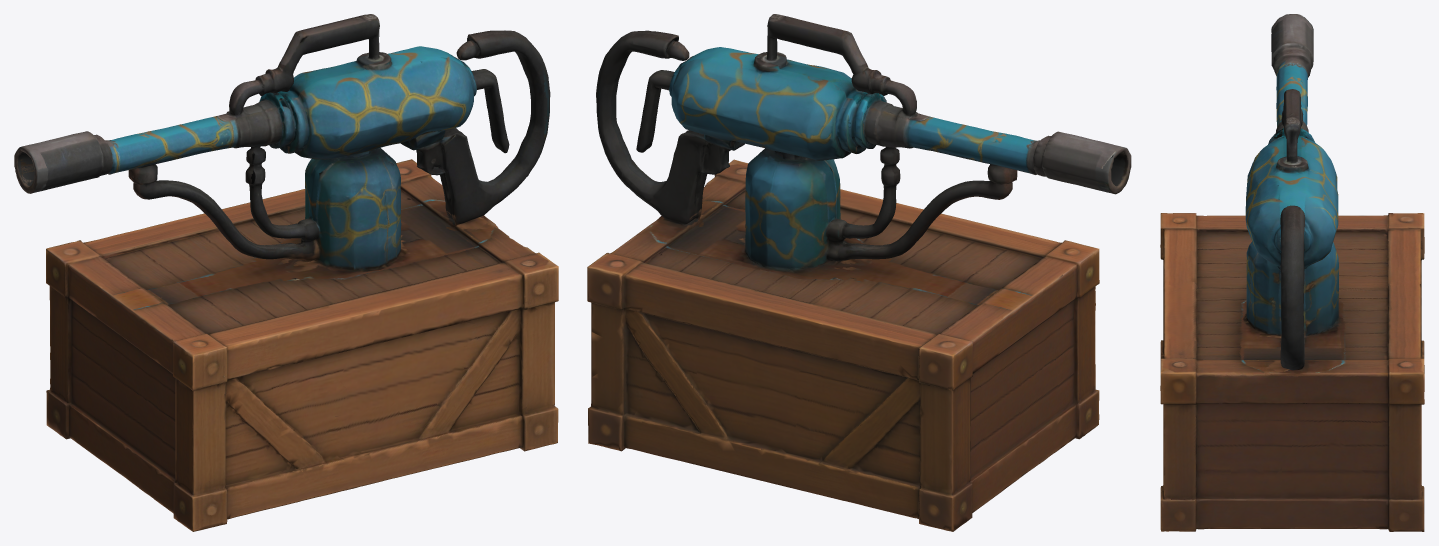
The model's file is Mystic_Blaster_compressed.glb.
3 renders of one model, left to right at view 1: azimuth 30°, elevation 25°; view 2: azimuth 150°, elevation 25°; view 3: azimuth 270°, elevation 25°, orthographic. The views are drawn at different scales.
Size of the model in its own units: 2 by 1.47 by 0.977.
1 material, 1 textured.
